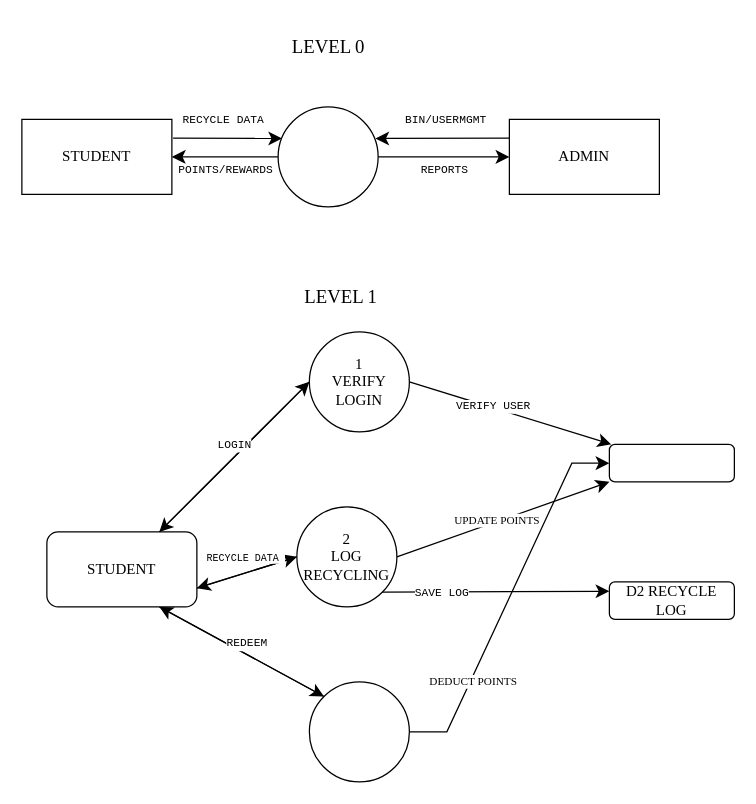
This 756x804 diagram has some shape labels left out. The centre of each missing label's shape, as x and y in pixels:
"0 UNIGREEN" belongs at (327,156).
"3 REDEMPTION" belongs at (358,731).
"D1 USERS" belongs at (671,462).
